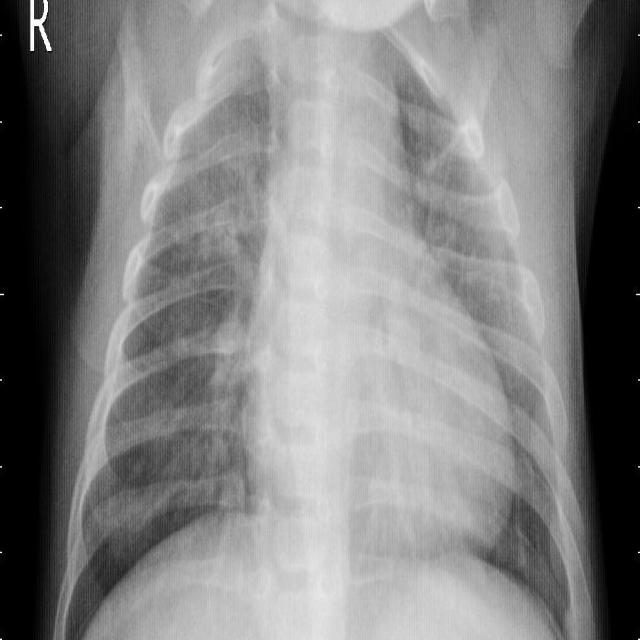low-pneumonia: (190, 121, 271, 302), (413, 109, 474, 279), (203, 306, 254, 509)
